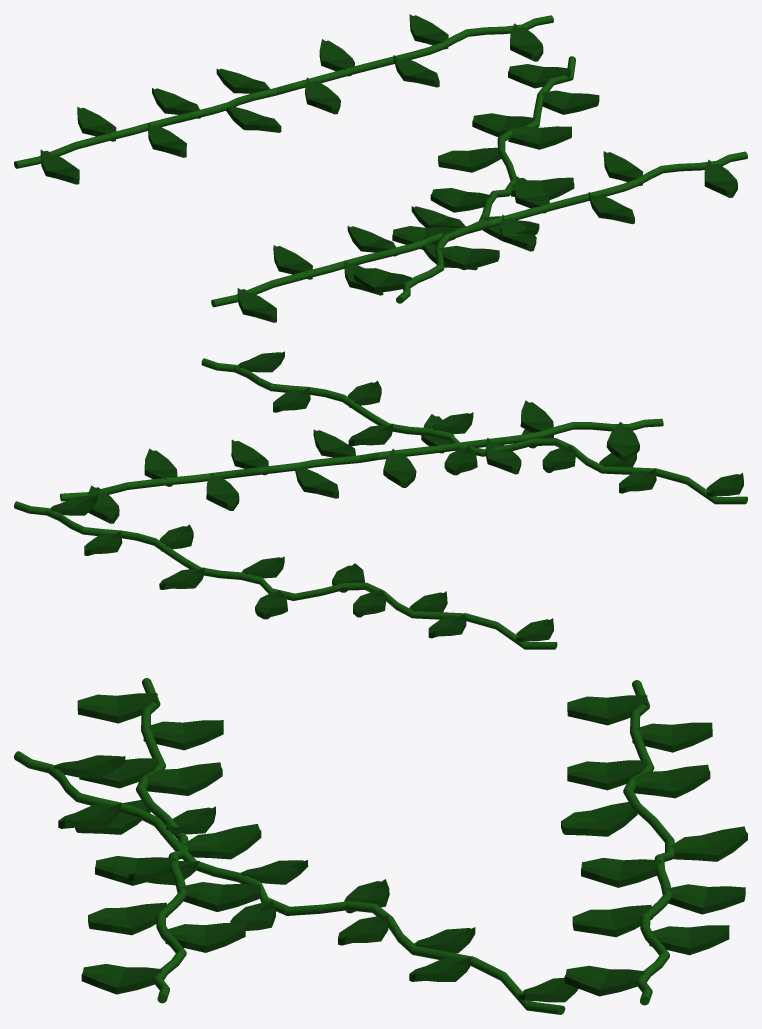
The model's file is Vines Medium.fbx.
The picture shows the model from 3 angles, top to bottom: view 1: azimuth 30°, elevation 25°; view 2: azimuth 150°, elevation 25°; view 3: azimuth 270°, elevation 25°; orthographic projection. The views are drawn at different scales.
Parts seen in each view (by area): view 1: VineLeaf.035; view 2: VineLeaf.035; view 3: VineLeaf.035.
Part boxes in pixels (bbox=[...]): VineLeaf.035: bbox=[14, 14, 747, 322]; VineLeaf.035: bbox=[14, 351, 747, 649]; VineLeaf.035: bbox=[14, 678, 747, 1014].
Bounding box in the file's own units: 979 × 57.37 × 910.
